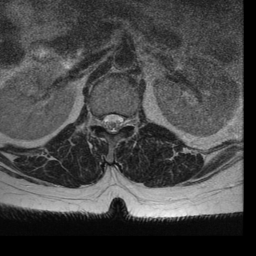CCS_normal: (109, 108, 116, 137)
LFS_normal: (124, 109, 131, 132)
LLS_normal: (116, 109, 123, 134)
RFS_normal: (94, 109, 101, 131)
RLS_normal: (101, 109, 109, 132)
